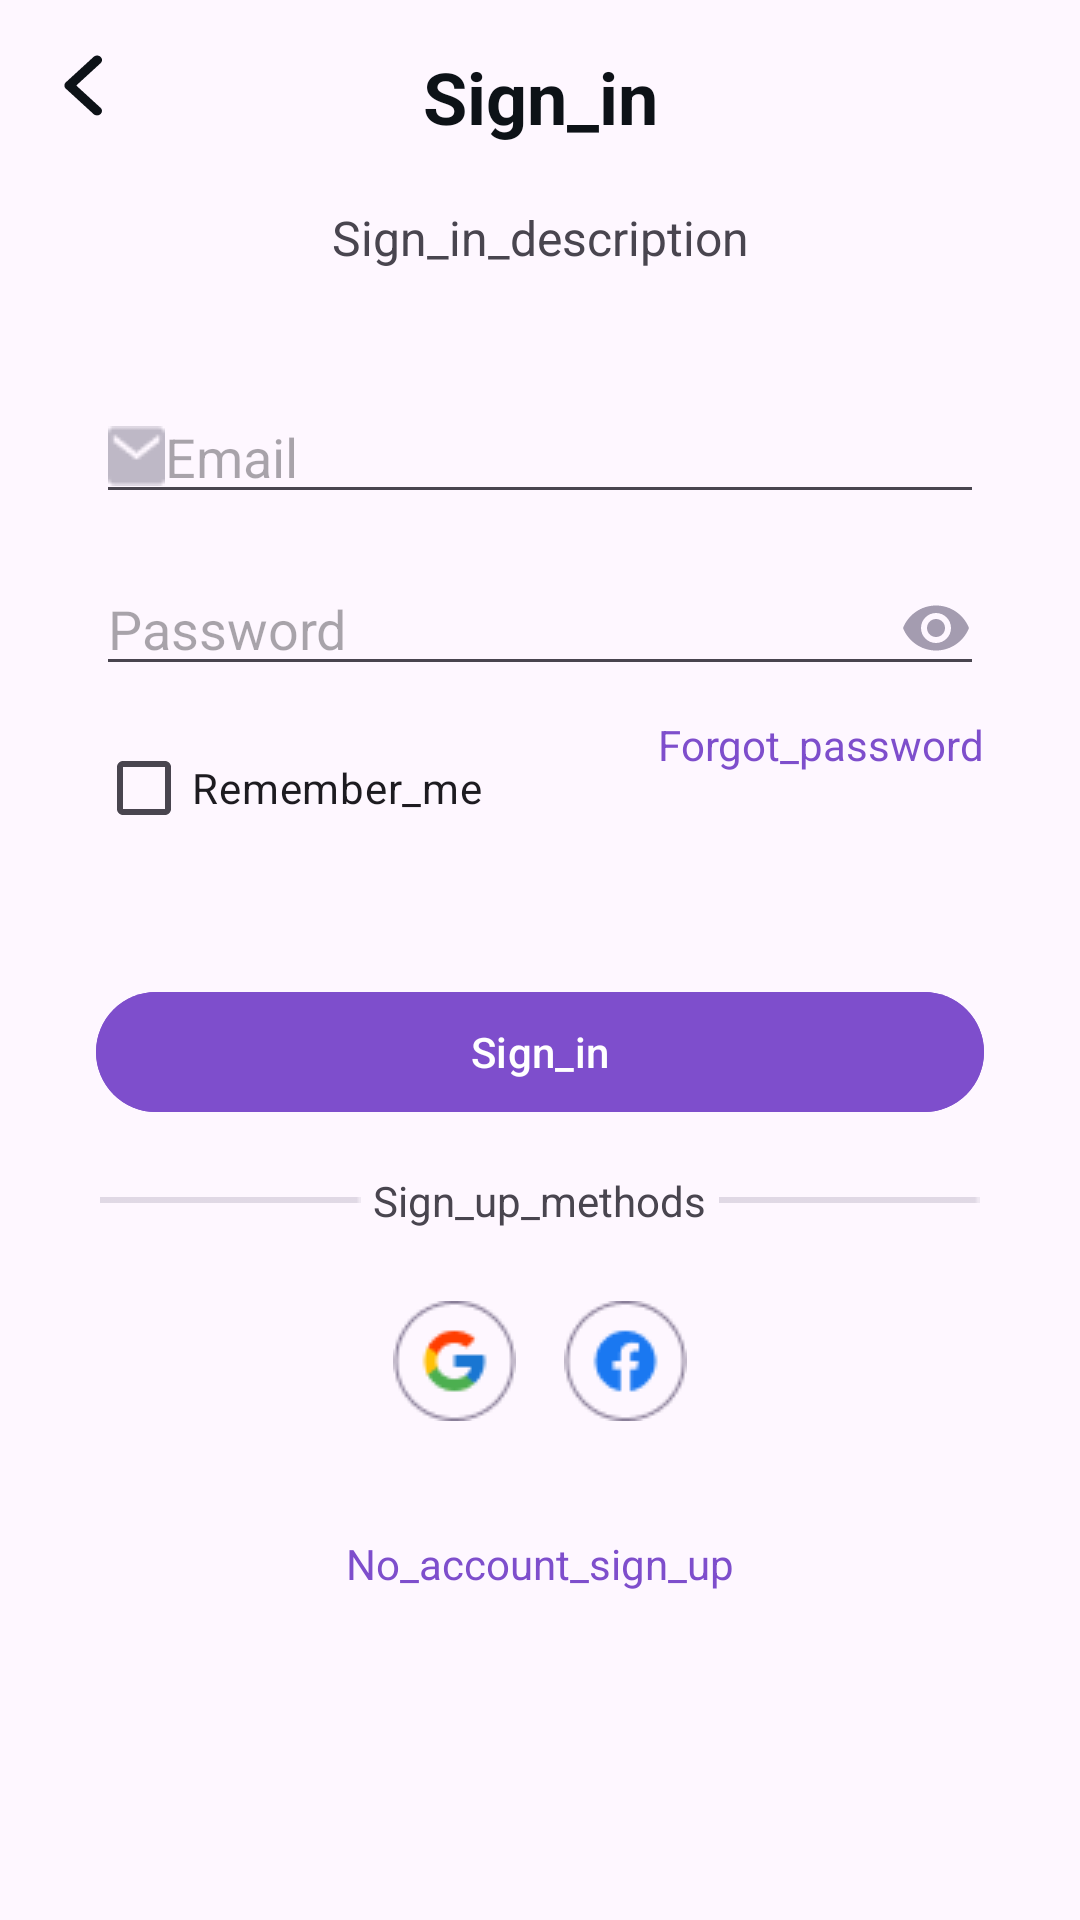

Screen size 1080w x 1920h. Icon name, then its box in pixels as (x1, y1, x2, y2):
back: (64, 55, 102, 116)
